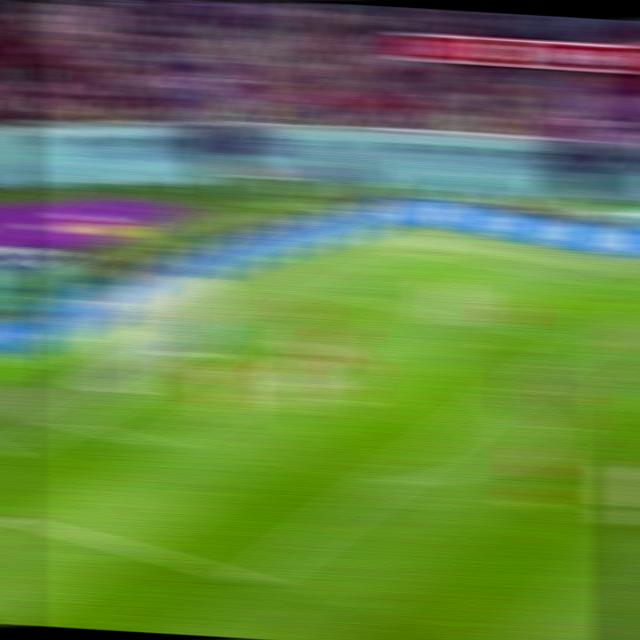bigarea_bottom_inner: (227, 560, 278, 596)
bigarea_top_inner: (562, 331, 603, 353)
bigarea_top_outter: (315, 284, 354, 303)
bottom_arc_area_intersection: (366, 467, 408, 494)
corner: (403, 243, 444, 260)
smallarea_bottom_inner: (138, 428, 186, 460)
smallarea_bottom_outter: (49, 409, 92, 436)
smallarea_top_outter: (230, 322, 271, 345)
top_arc_area_intersection: (481, 386, 523, 410)
